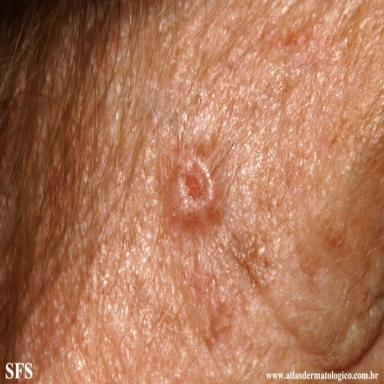basal-cell-carcinoma: (167, 147, 222, 224)
